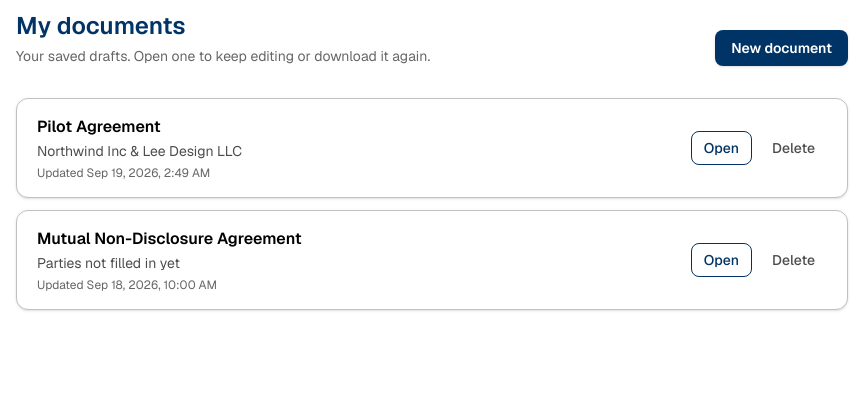
Scenario: MyDocuments › keeps the document and shows an error if the delete fails
Click the button with aria-label "Delete Pilot Agreement" at (793, 148), box left=760, top=132, right=827, bottom=164
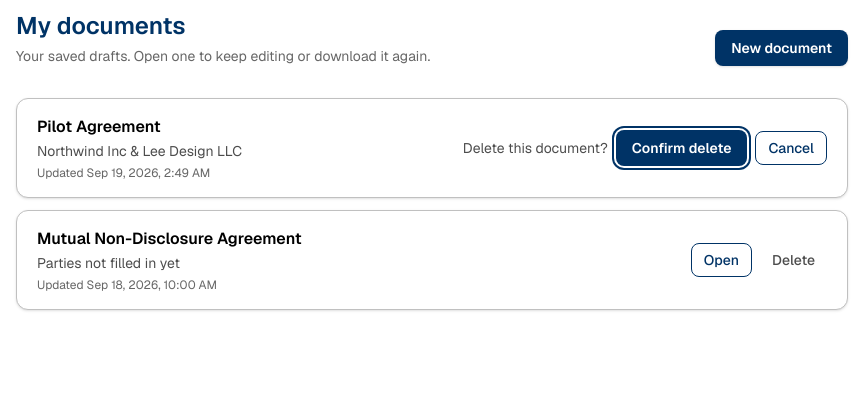
Click the button "Confirm delete" at (682, 148), box left=616, top=130, right=747, bottom=166
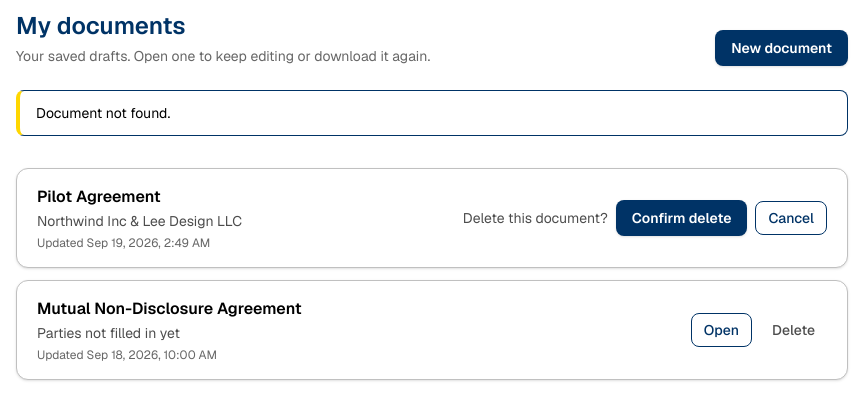
Expected: the number of list items is 2, left=16, top=168, right=848, bottom=268; left=16, top=280, right=848, bottom=380
Expected: the message reads "Document not found.", left=36, top=104, right=170, bottom=122
